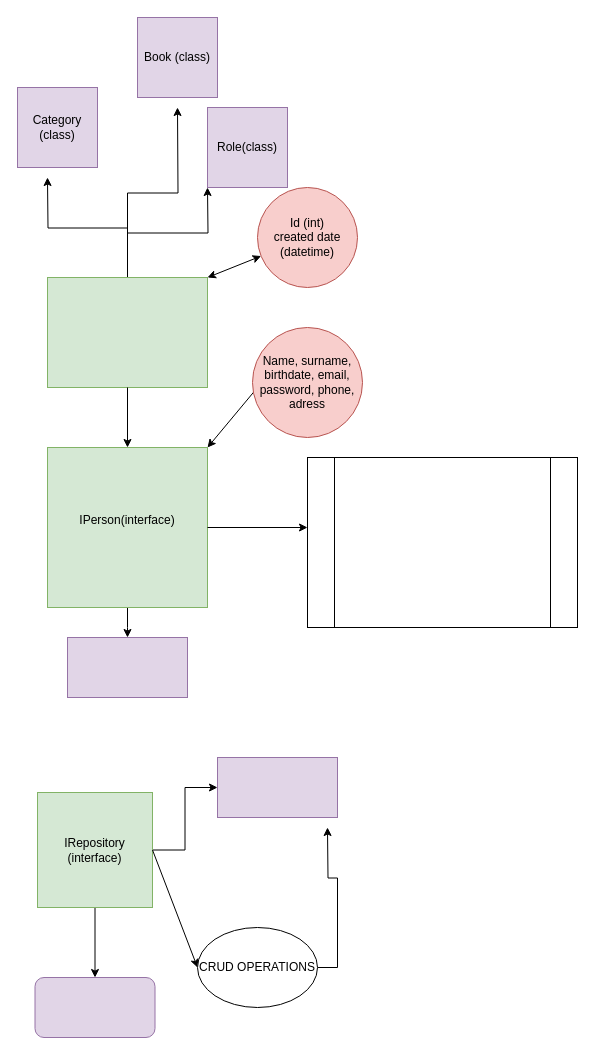
The diagram is 595 pixels wide and 1055 high, and some of its shapes have lost their labels. Here are the shapes that lost their labels. From the top down, the box of each, then its label:
(46, 276, 208, 388): IBase(interface)
(66, 636, 188, 698): User(class)
(216, 756, 338, 818): User Repostories
(34, 976, 155, 1038): Book Repository
